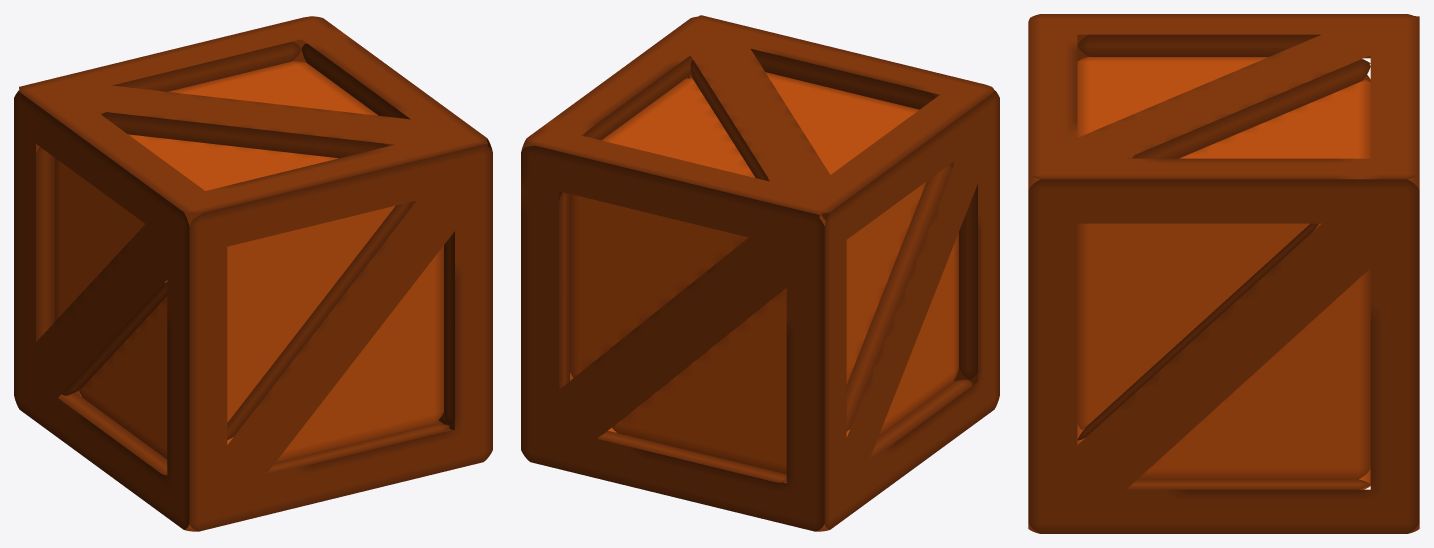
3 views of the same model, side by side, from view 1: azimuth 30°, elevation 25°; view 2: azimuth 150°, elevation 25°; view 3: azimuth 270°, elevation 25° (orthographic). The views are drawn at different scales.
Parts seen in each view (by area): view 1: cuboid; view 2: cuboid; view 3: cuboid.
Boxes of the visible parts, <box> form: cuboid: <box>14,16,492,531</box>; cuboid: <box>521,15,999,531</box>; cuboid: <box>1028,14,1419,533</box>.
Size of the model in its own units: 1 by 1 by 1.
1 material, 1 textured.
